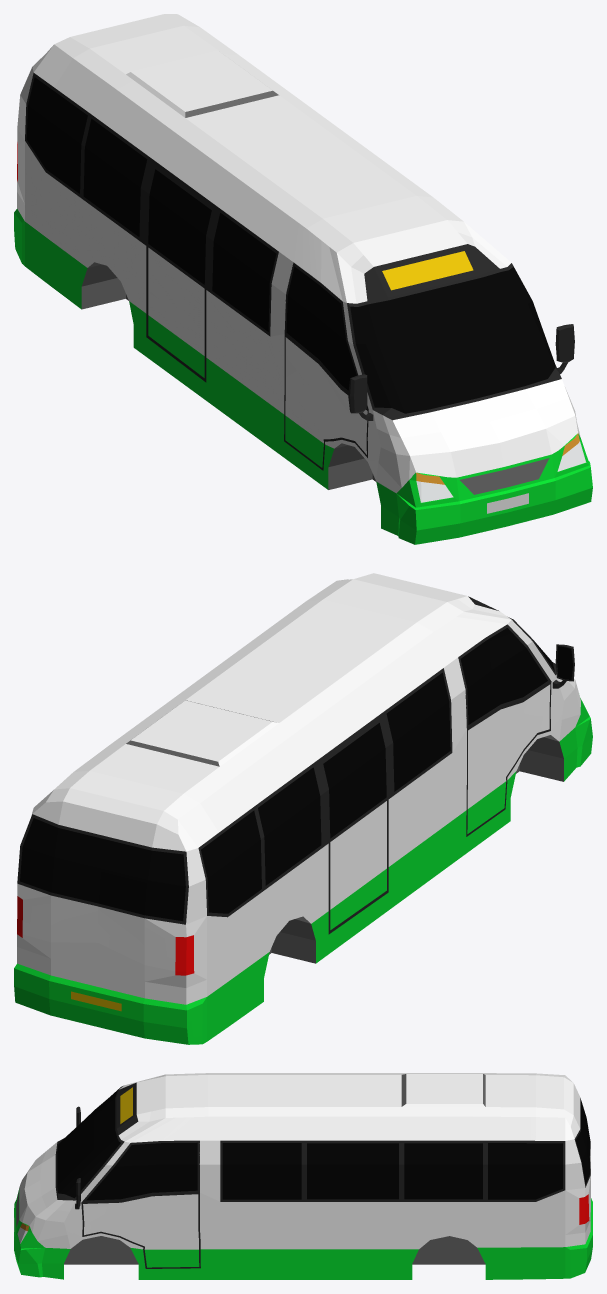
Rendered from bus.obj.
3 views of the same model, one above another, from view 1: azimuth 30°, elevation 25°; view 2: azimuth 150°, elevation 25°; view 3: azimuth 270°, elevation 25° (orthographic). The views are drawn at different scales.
Parts seen in each view (by area): view 1: body, body_misc; view 2: body, body_misc; view 3: body, body_misc.
Boxes of the visible parts, x1,y1,x2,y2 form: body: (17, 14, 580, 493); body_misc: (14, 73, 592, 544); body: (17, 573, 580, 1004); body_misc: (14, 596, 592, 1044); body: (19, 1073, 590, 1249); body_misc: (14, 1074, 592, 1279).
Size of the model in its own units: 2.01 by 1.93 by 6.35.
